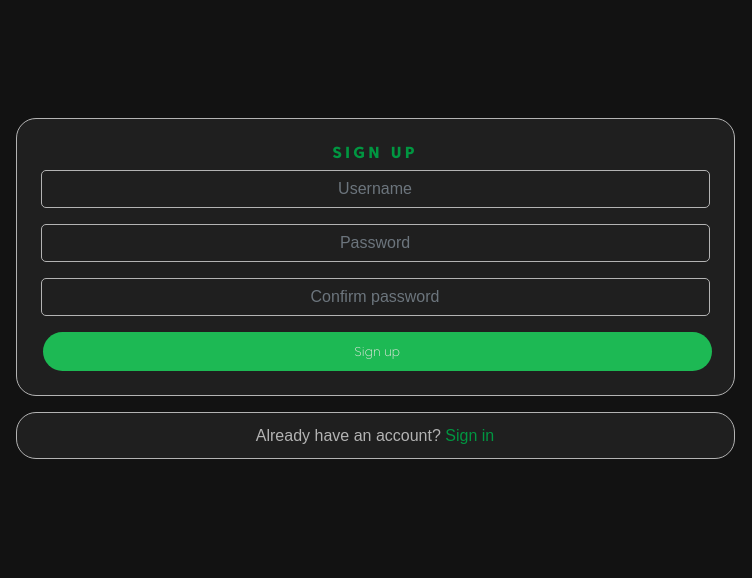
Test: displays validation errors on form submission
Click the button "Sign up" at coordinates (377, 351), box x1=42 y1=332 x2=712 y2=371
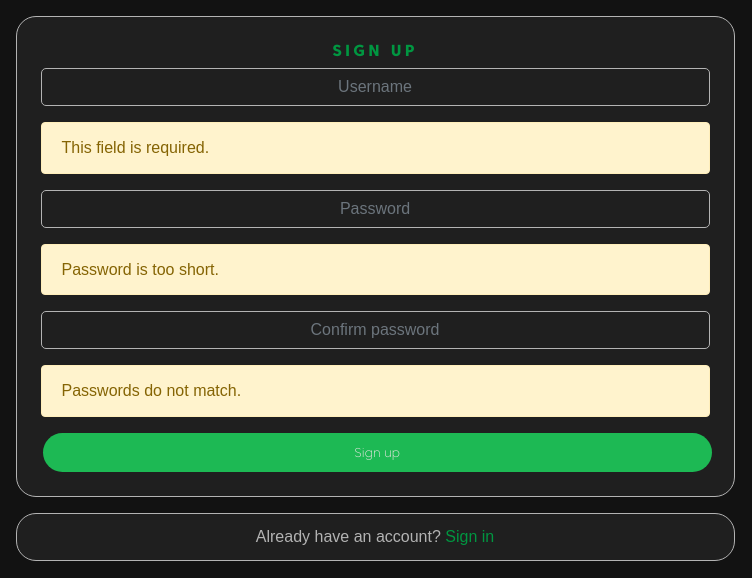
Result: the text "This field is required." is shown at x1=40 y1=122 x2=710 y2=174
Result: the text "Password is too short." is shown at x1=40 y1=244 x2=710 y2=295
Result: the text "Passwords do not match." is shown at x1=40 y1=365 x2=710 y2=417
